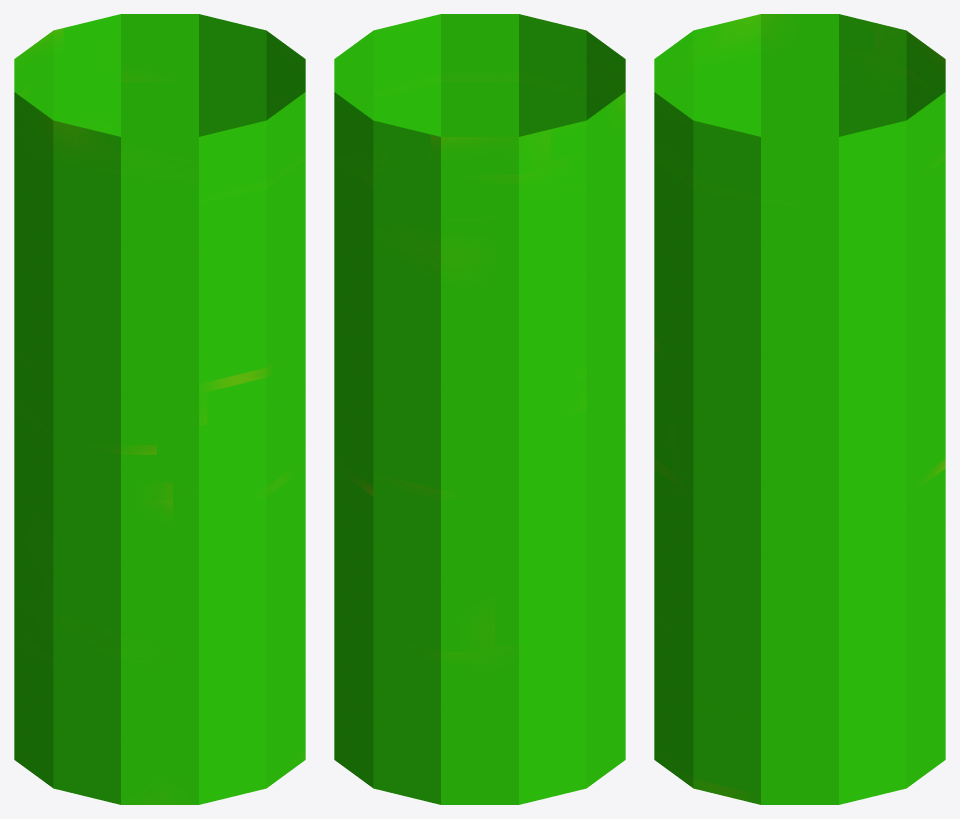
Rendered from energy_box_glass.dae.
3 views of the same model, side by side, from view 1: azimuth 30°, elevation 25°; view 2: azimuth 150°, elevation 25°; view 3: azimuth 270°, elevation 25° (orthographic).
Parts seen in each view (by area): view 1: energy_box_glass; view 2: energy_box_glass; view 3: energy_box_glass.
Boxes of the visible parts, left/top/right/bottom form: energy_box_glass: left=14, top=14, right=305, bottom=804; energy_box_glass: left=334, top=14, right=625, bottom=804; energy_box_glass: left=654, top=14, right=945, bottom=804.
Bounding box in the file's own units: 3.8 × 3.8 × 9.63.
